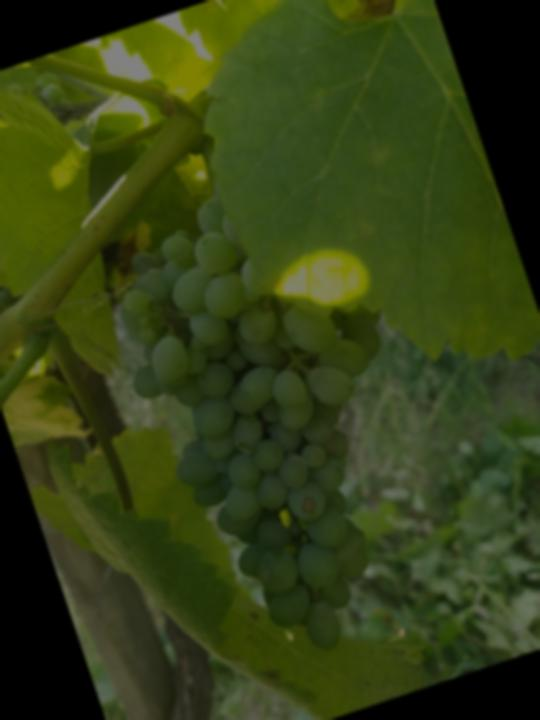grape: (75, 145, 479, 691)
